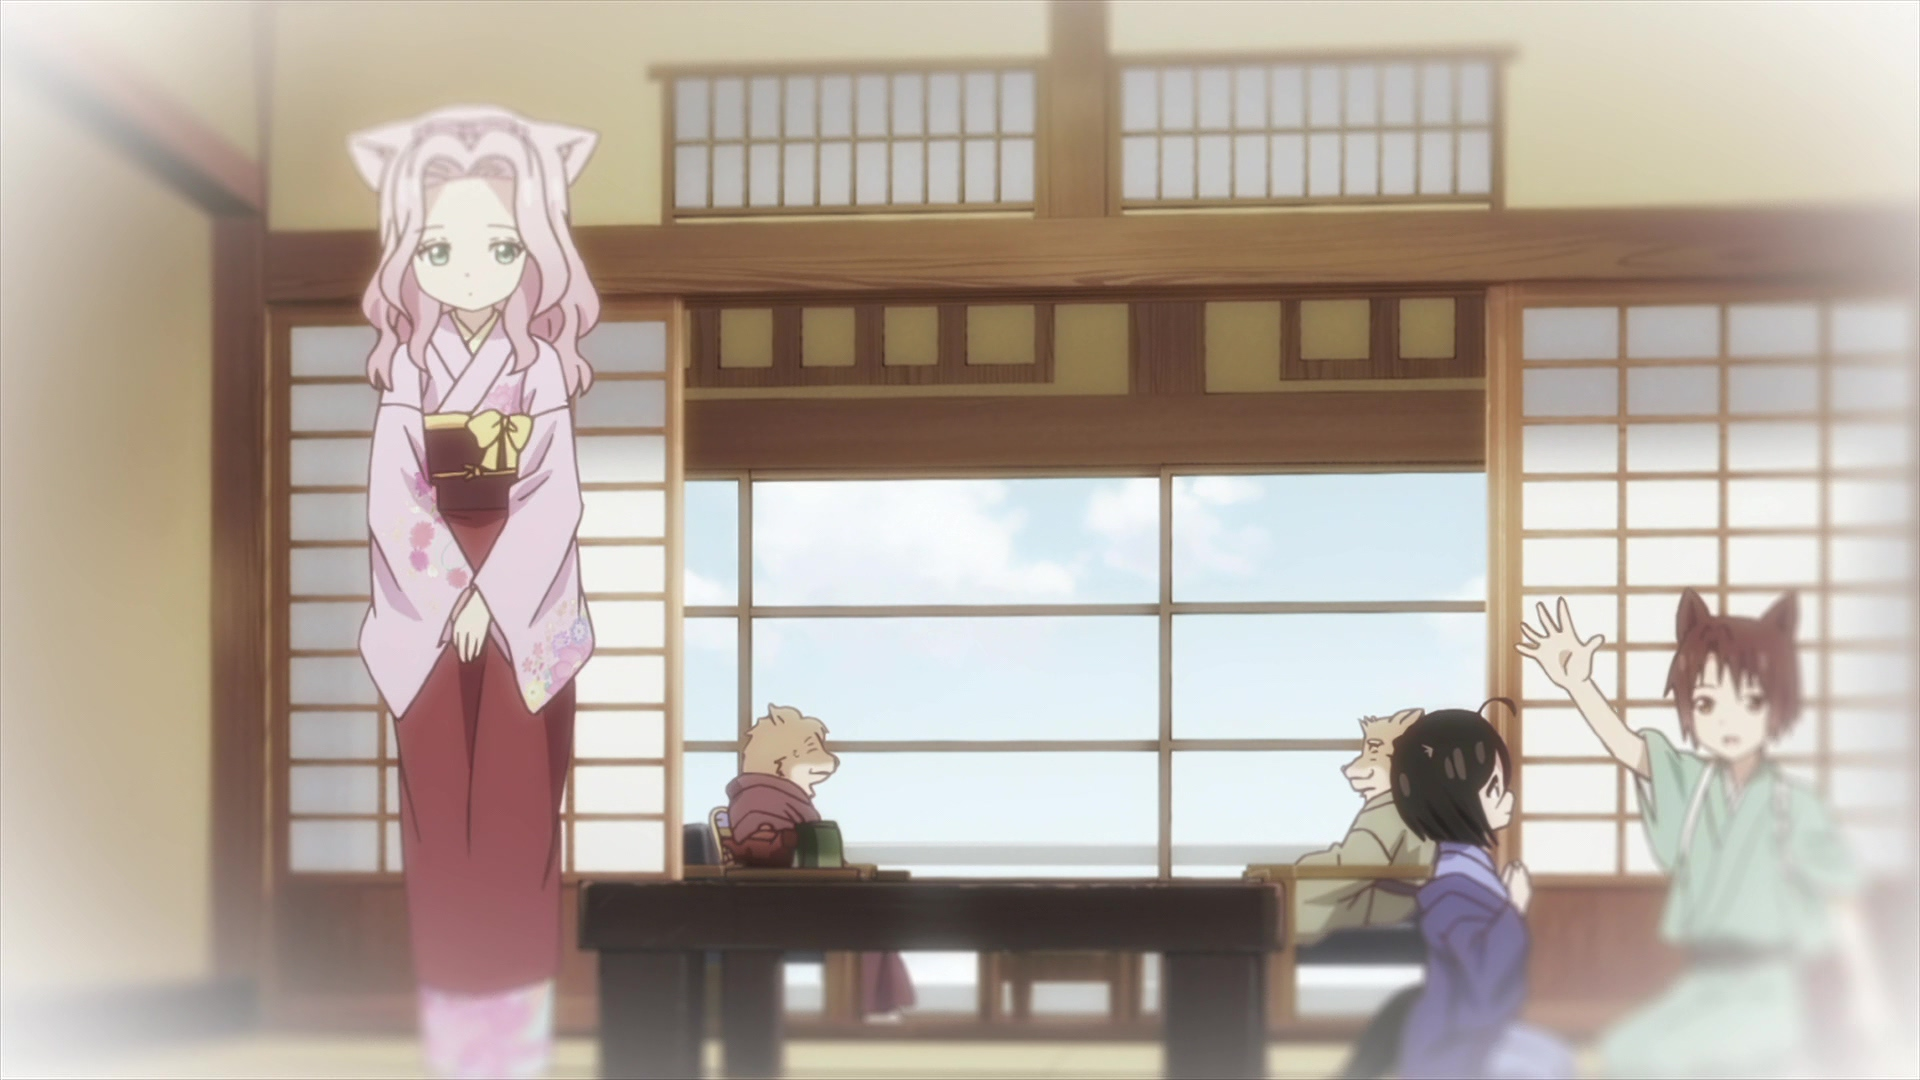其他: (1341, 696, 1573, 1080), (725, 705, 928, 1027), (1290, 709, 1433, 936)
枣: (1516, 585, 1902, 1080)
莲: (348, 107, 604, 1080)
